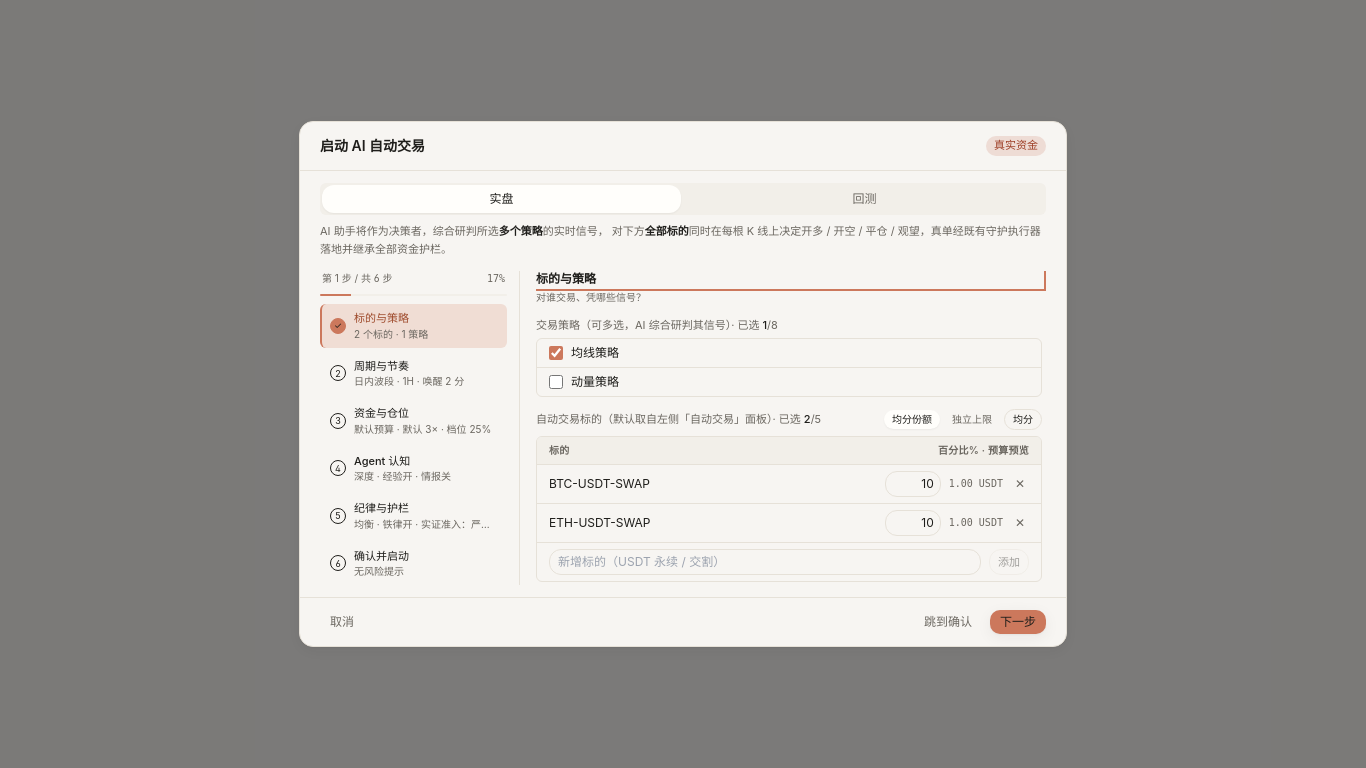
Test: AiTradeLaunchModal › even-splits allocations to 100 across members
Expected: the text "均线策略" is shown, [571,345,619,361]
Click the button "均分".
click(1023, 419)  # box [1004,409,1042,430]
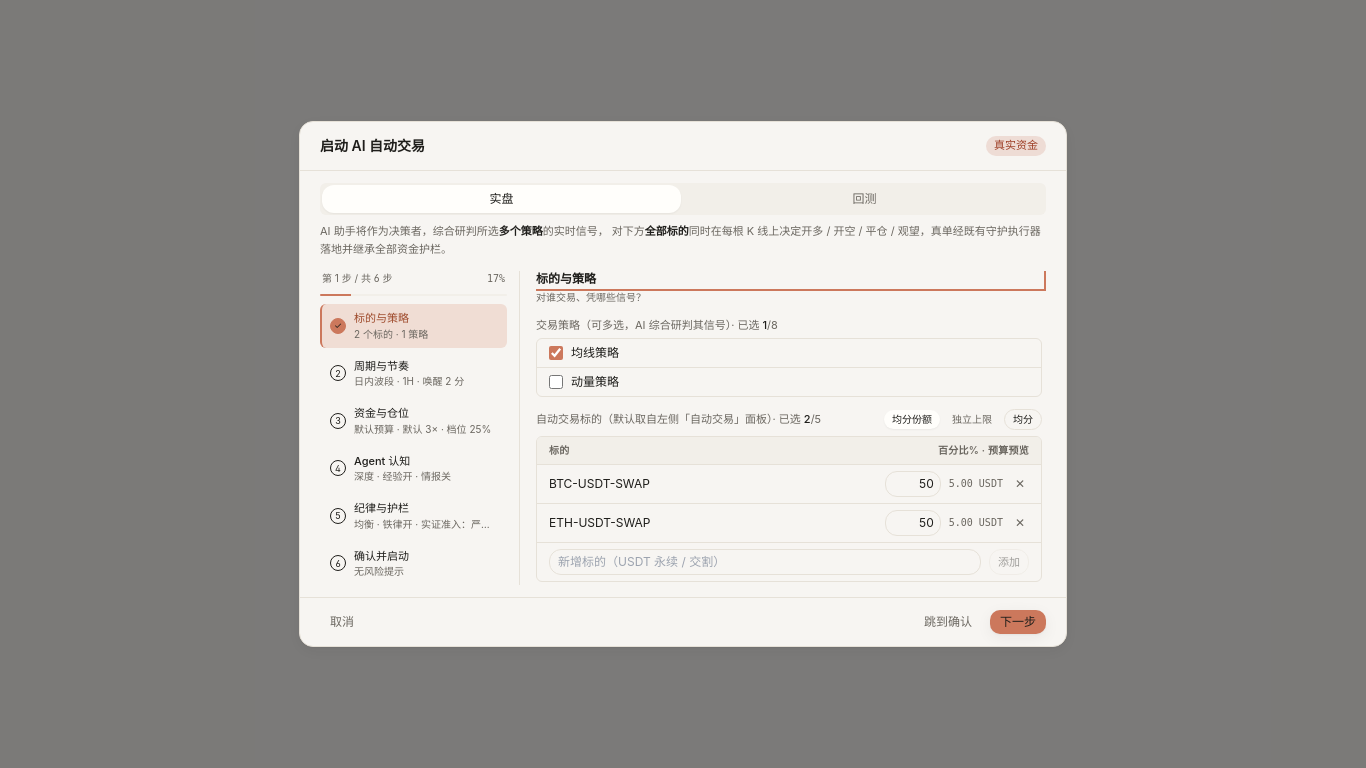
Now the field named "BTC-USDT-SWAP 百分比" holds "50", box [885,471,941,497]
Now the field named "ETH-USDT-SWAP 百分比" holds "50", box [885,510,941,536]
